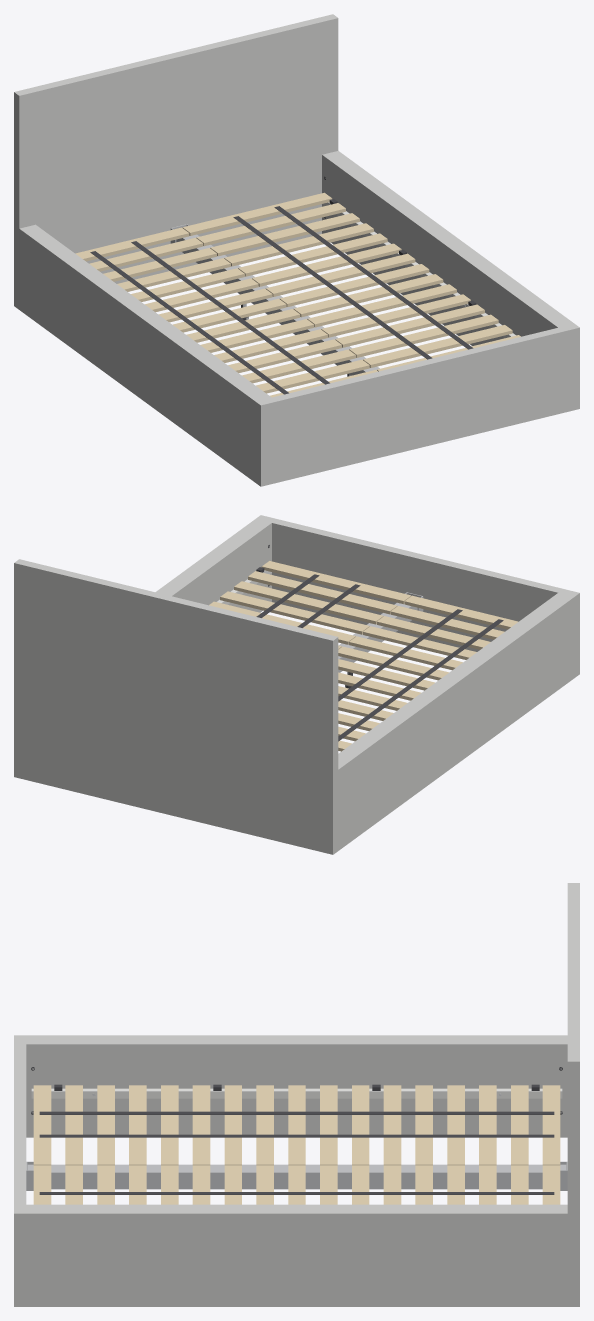
3 renders of one model, top to bottom at view 1: azimuth 30°, elevation 25°; view 2: azimuth 150°, elevation 25°; view 3: azimuth 270°, elevation 25°, orthographic. The views are drawn at different scales.
Visible parts, largest first — view 1: Headboard, Footboard, Slats_R, Side_L, Slats_L, Side_R, CentreBeam; view 2: Headboard, Side_L, Footboard, Slats_L, Slats_R, Side_R, CentreBeam; view 3: Side_R, Side_L, Slats_L, Slats_R, CentreBeam, Headboard, Footboard, Rail_L.
Boxes of the visible parts, box(x1,y1,x2,y2) form: Headboard: box(14, 14, 338, 309); Footboard: box(255, 323, 579, 486); Slats_R: box(182, 192, 520, 371); Side_L: box(19, 224, 271, 482); Slats_L: box(75, 227, 377, 397); Side_R: box(322, 151, 574, 345); CentreBeam: box(176, 234, 379, 375); Headboard: box(14, 559, 338, 854); Side_L: box(338, 593, 574, 850); Footboard: box(256, 515, 579, 677); Slats_L: box(338, 595, 518, 751); Slats_R: box(209, 561, 411, 649); Side_R: box(155, 519, 271, 612); CentreBeam: box(338, 602, 417, 672); Side_R: box(26, 1204, 567, 1306); Side_L: box(26, 1035, 567, 1137); Slats_L: box(33, 1085, 560, 1165); Slats_R: box(33, 1165, 560, 1204); CentreBeam: box(27, 1164, 566, 1189); Headboard: box(567, 883, 579, 1306); Footboard: box(14, 1035, 26, 1306); Rail_L: box(31, 1088, 562, 1098).
Size of the model in its own units: 1.56 by 1 by 2.09.
